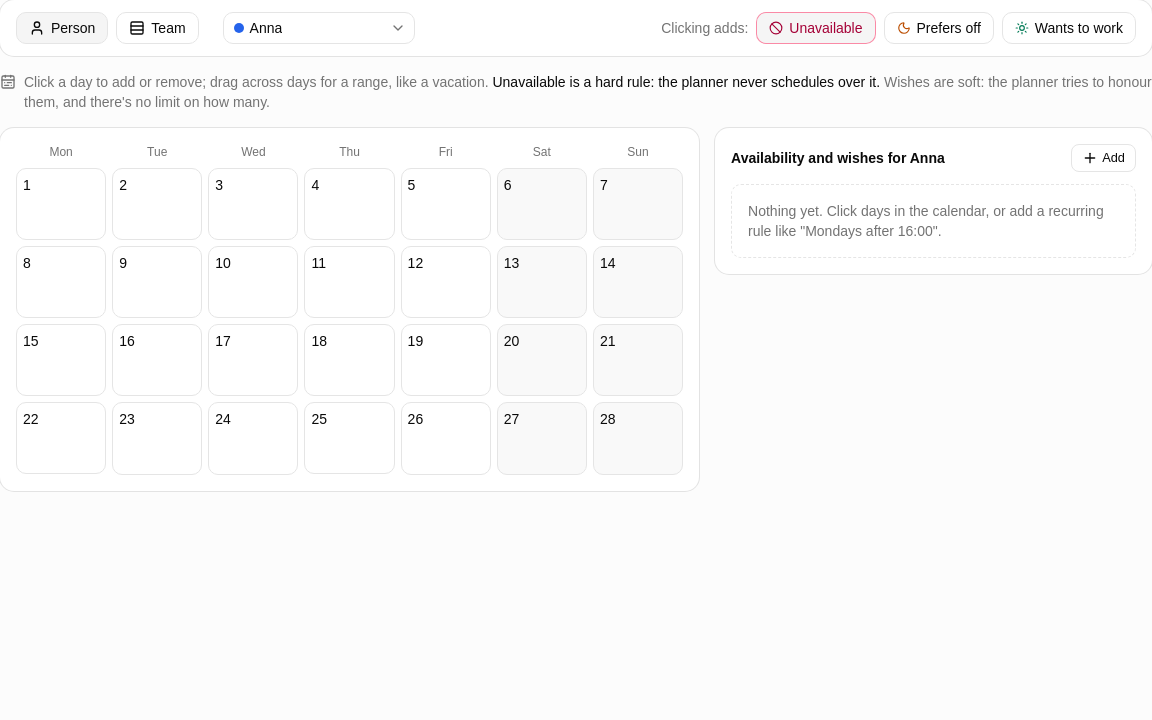
Test: AvailabilityScreen › adds a recurring part-day rule from the dialog
The image size is (1152, 720).
Click the button "Add". click: (1104, 158)
box: [1071,144,1136,172]
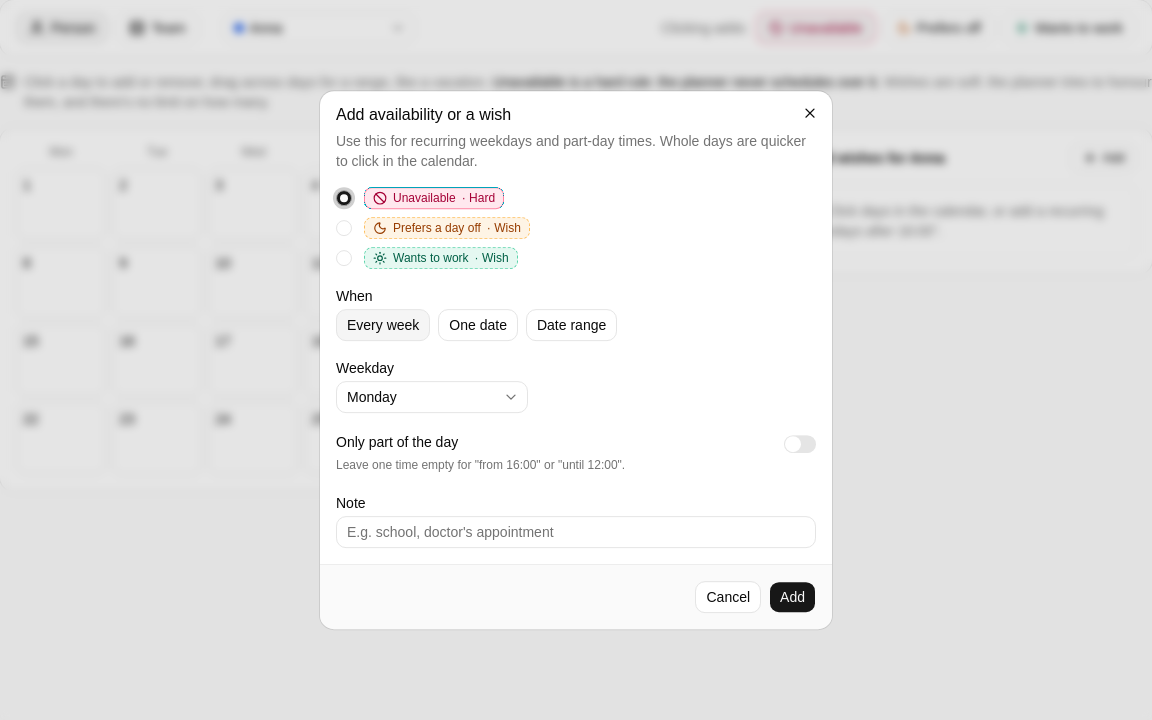
Click the switch named "Only part of the day". click: (800, 444)
box: [784,435,816,454]
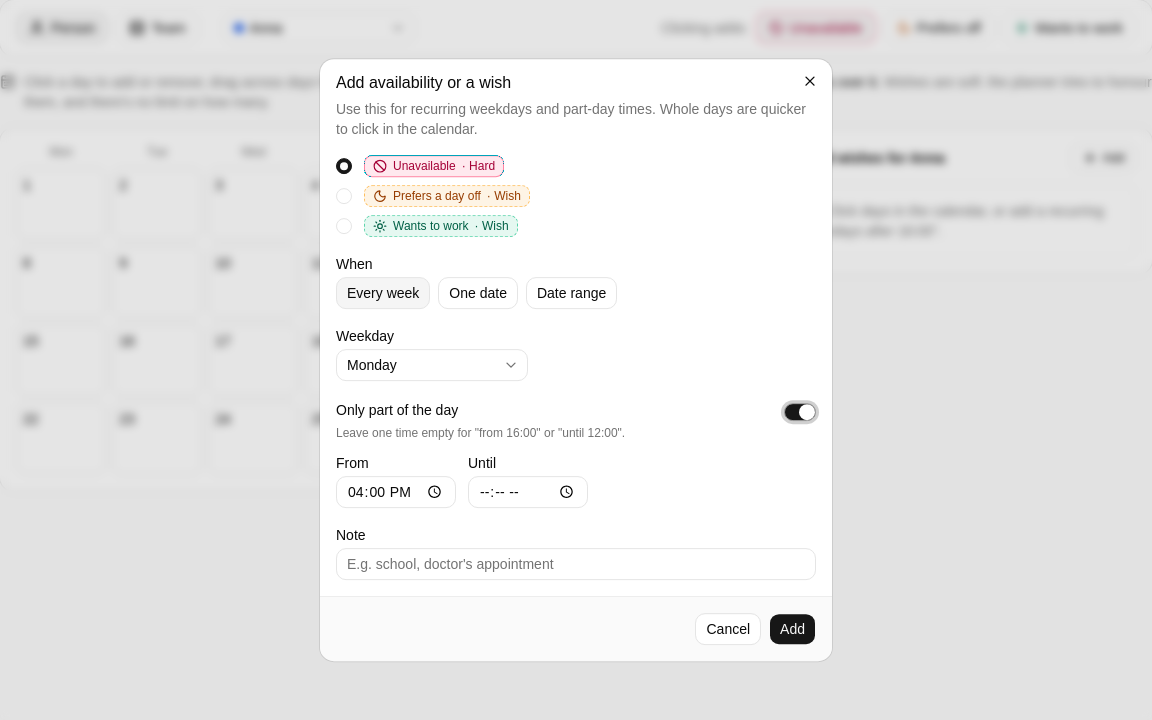
Click the button "Add". click: (793, 629)
box: [769,613,816,645]
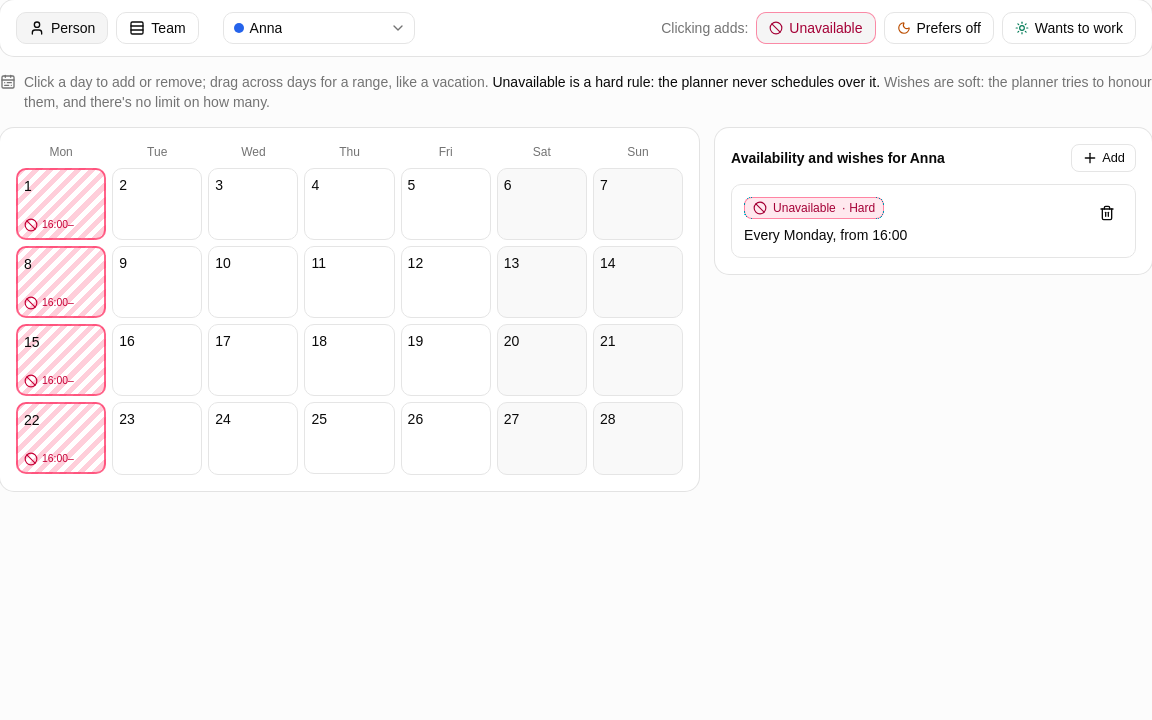
Expected: the text "every Monday, from 16:00" is shown, [744,225,907,245]
